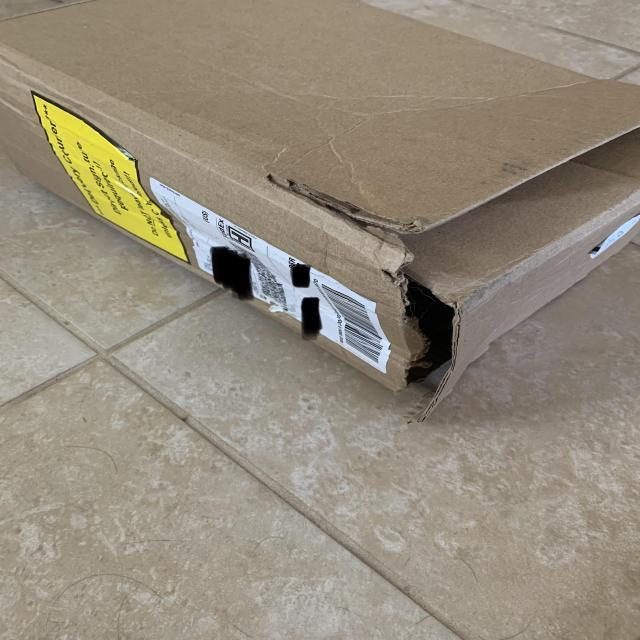damaged: (388, 272, 461, 399)
